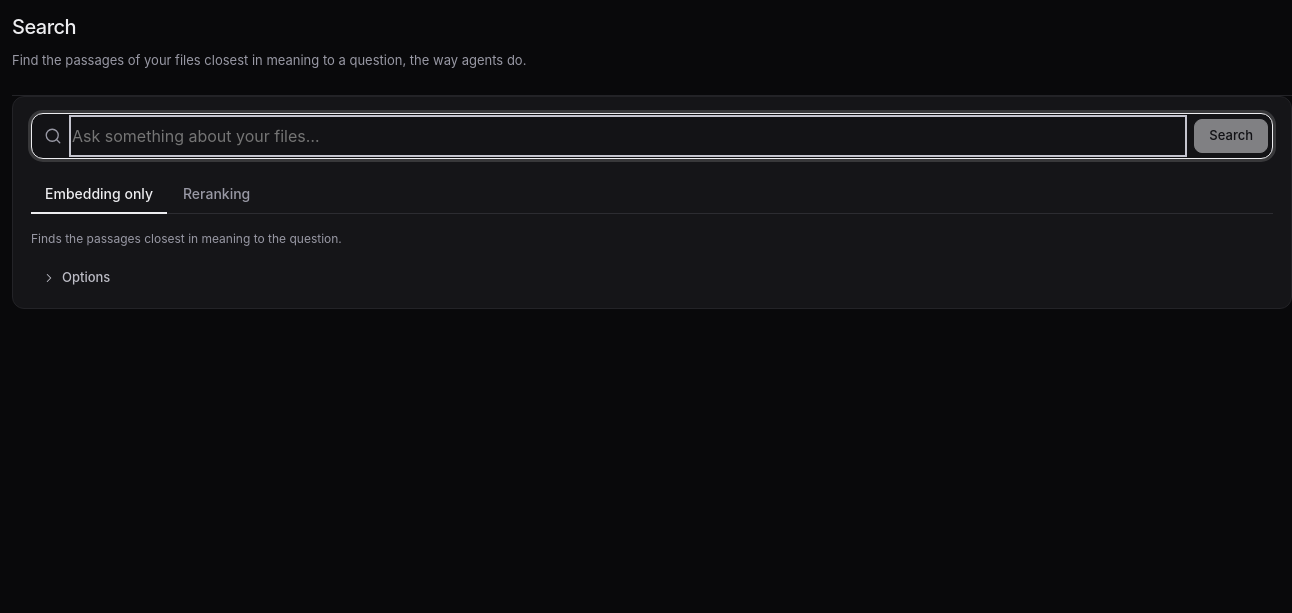
SearchPage › searches by embedding only by default and shows only the embedding options
Expected: the tab "Reranking" is shown, top-left (169, 175), bottom-right (264, 214)
Step 1. Click the button "Options" → click(76, 278), box top-left (31, 264), bottom-right (121, 292)
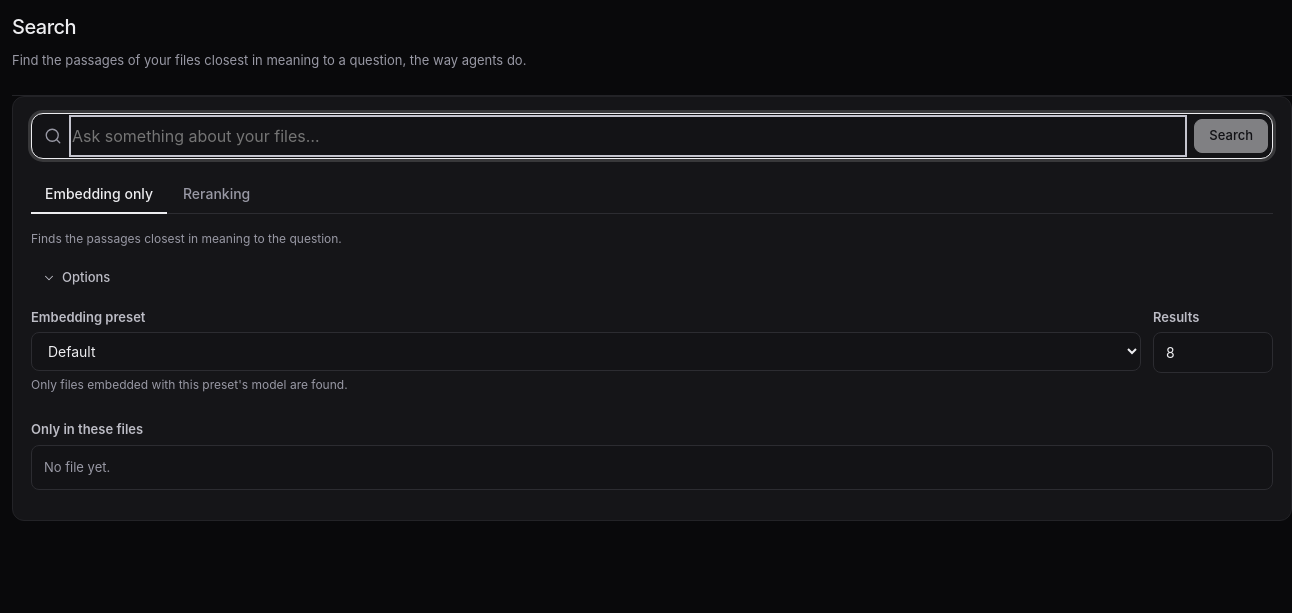
Now the dropdown labelled "Embedding preset" is shown, box top-left (31, 332), bottom-right (1141, 371)
Now the number field labelled "Results" holds "8", box top-left (1153, 332), bottom-right (1273, 373)
Step 2. Type "green tea" into the field named "Search" → (628, 136), box top-left (72, 118), bottom-right (1184, 154)
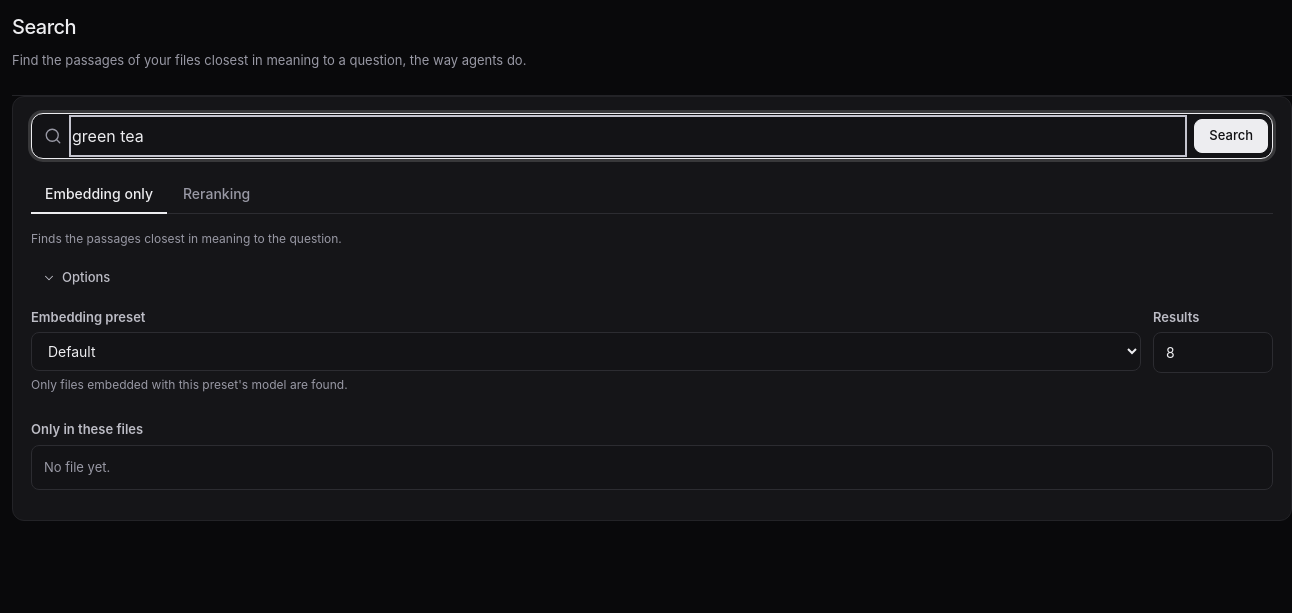
Step 3. Click the button "Search" → click(1231, 136), box top-left (1194, 119), bottom-right (1268, 153)
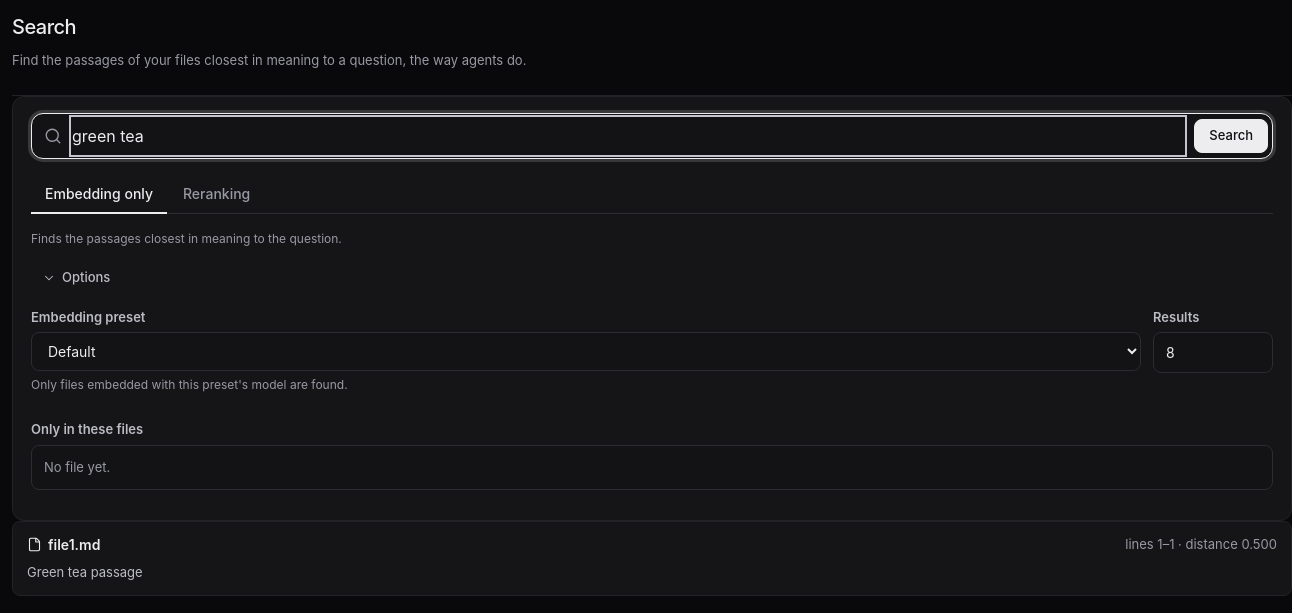
Now the text "Green tea passage" is shown, box top-left (27, 564), bottom-right (143, 580)
